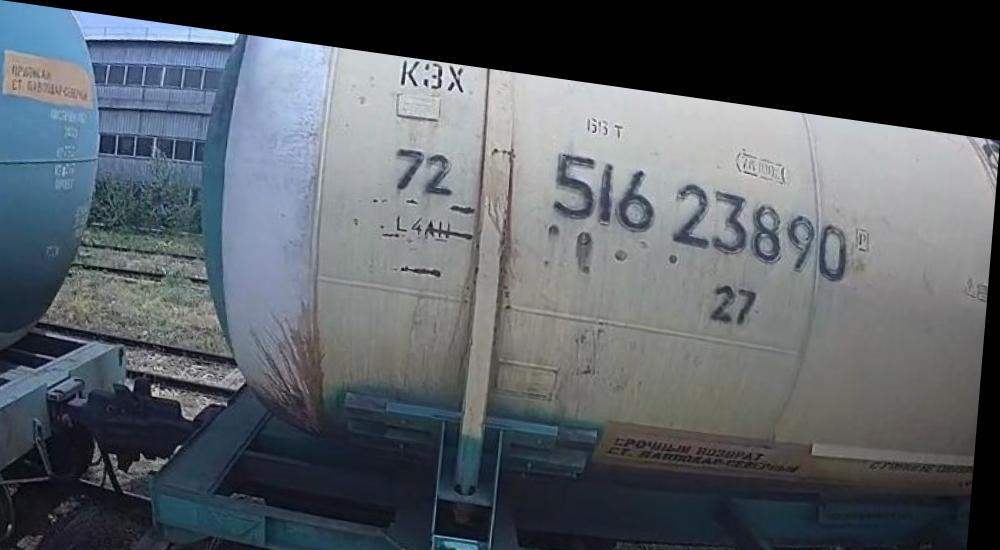Wagon-number: (549, 131, 859, 262)
